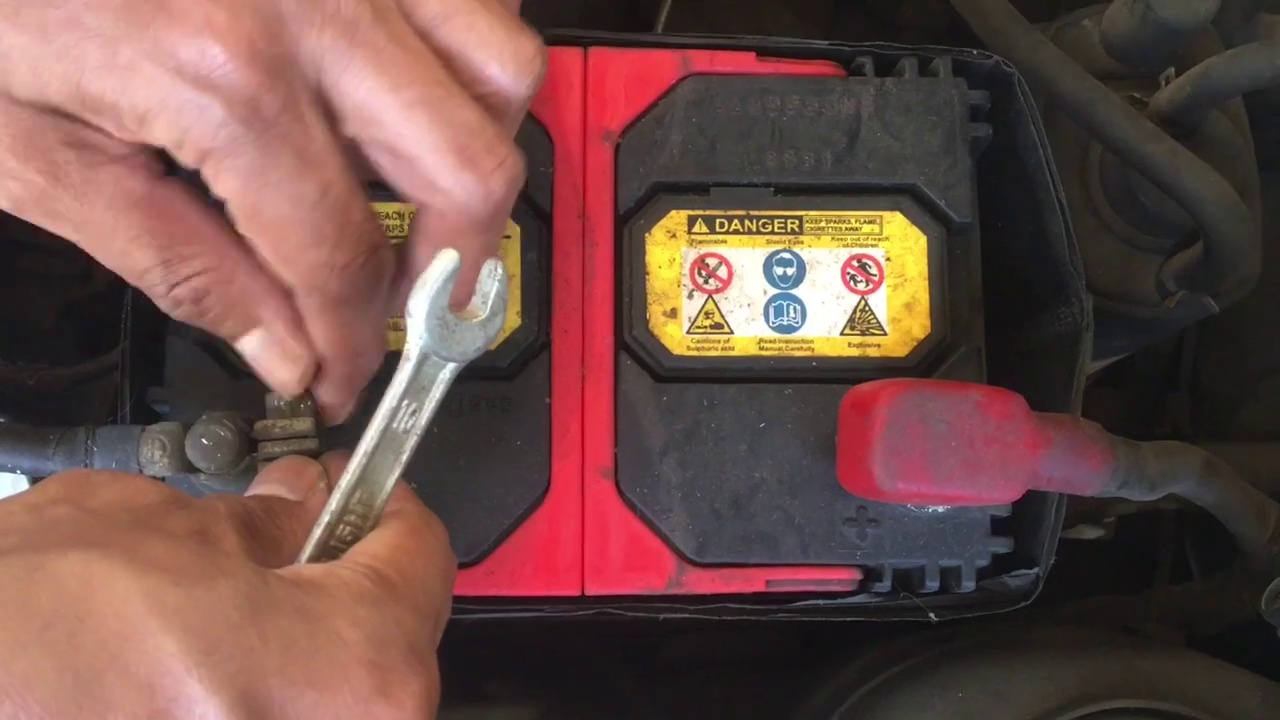battery: (144, 30, 1104, 604)
neg_connected: (61, 353, 328, 505)
neg_touched: (120, 208, 474, 653)
pos_connected: (845, 369, 1156, 548)
